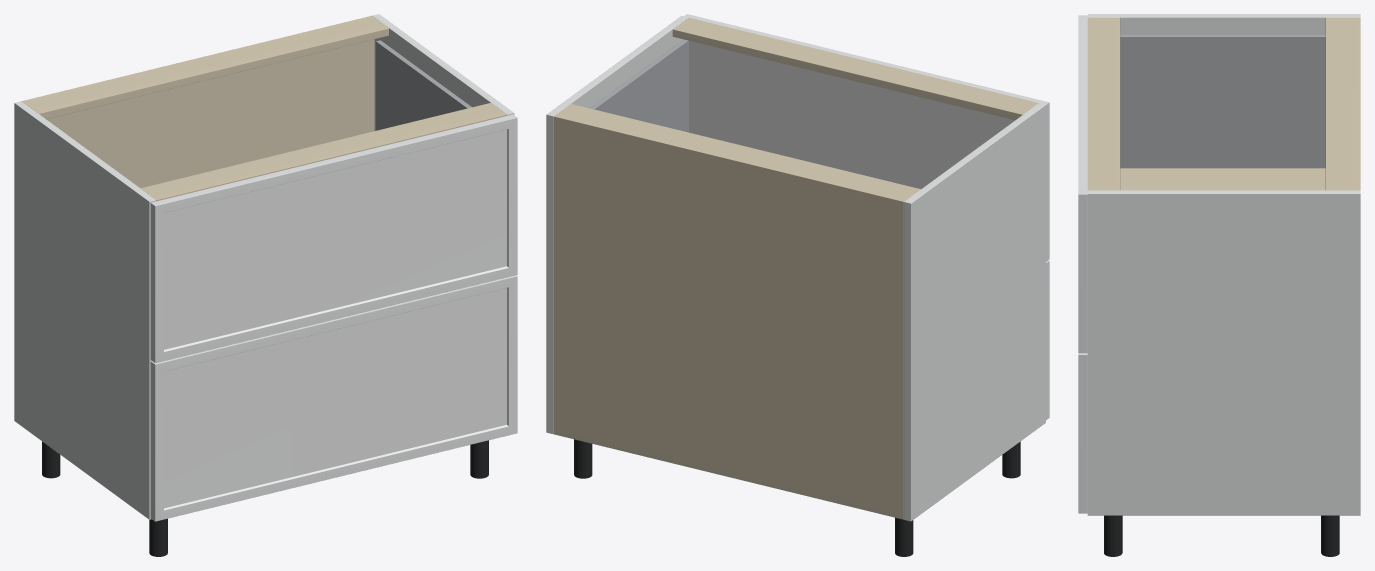
File: oppein-ply-ssw-2db36.glb
3 renders of one model, left to right at view 1: azimuth 30°, elevation 25°; view 2: azimuth 150°, elevation 25°; view 3: azimuth 270°, elevation 25°, orthographic.
Visible parts, largest first — view 1: Drawer front.001, Drawer front, Cabinet side, Cabinet back, Top support rail, Top support rail.001, Drawer side.003, Cabinet side.001, Adjustable foot.001, Adjustable foot.003; view 2: Cabinet back, Cabinet side, Drawer front.001, Top support rail.001, Cabinet side.001, Top support rail, Drawer side.003, Cabinet bottom, Adjustable foot, Adjustable foot.002, Drawer front; view 3: Cabinet side.001, Drawer side.002, Top support rail.001, Top support rail, Drawer floor.001, Cabinet side, Drawer front.001, Drawer front, Cabinet back, Adjustable foot.003, Adjustable foot.002.
Part boxes in pixels (x1,y1,x2,y2): Drawer front.001: (150,114,517,363); Drawer front: (150,275,517,521); Cabinet side: (14,101,156,519); Cabinet back: (21,15,374,188); Top support rail: (23,17,388,119); Top support rail.001: (141,103,506,201); Drawer side.003: (376,40,471,130); Cabinet side.001: (372,14,514,130); Adjustable foot.001: (149,518,167,556); Adjustable foot.003: (470,440,488,478); Cabinet back: (553,114,905,519); Cabinet side: (904,103,1045,521); Drawer front.001: (684,14,1049,261); Top support rail.001: (672,17,1038,120); Cabinet side.001: (546,16,688,434); Top support rail: (556,104,920,199); Drawer side.003: (590,39,688,132); Cabinet bottom: (553,427,903,518); Adjustable foot: (895,517,913,556); Adjustable foot.002: (574,439,592,478); Drawer front: (1046,260,1049,419); Cabinet side.001: (1087,190,1360,515); Drawer side.002: (1120,34,1325,168); Top support rail.001: (1087,17,1120,190); Top support rail: (1325,17,1357,190); Drawer floor.001: (1120,168,1325,190); Cabinet side: (1087,14,1360,34); Drawer front.001: (1078,15,1087,353); Drawer front: (1078,353,1087,513); Cabinet back: (1355,17,1360,190); Adjustable foot.003: (1104,515,1122,556); Adjustable foot.002: (1321,515,1339,556).
Bounding box in the file's own units: 0.9144 × 0.8763 × 0.6064.
